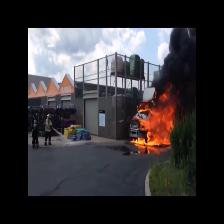fire: (145, 105, 173, 149)
smoke: (165, 32, 193, 104)
